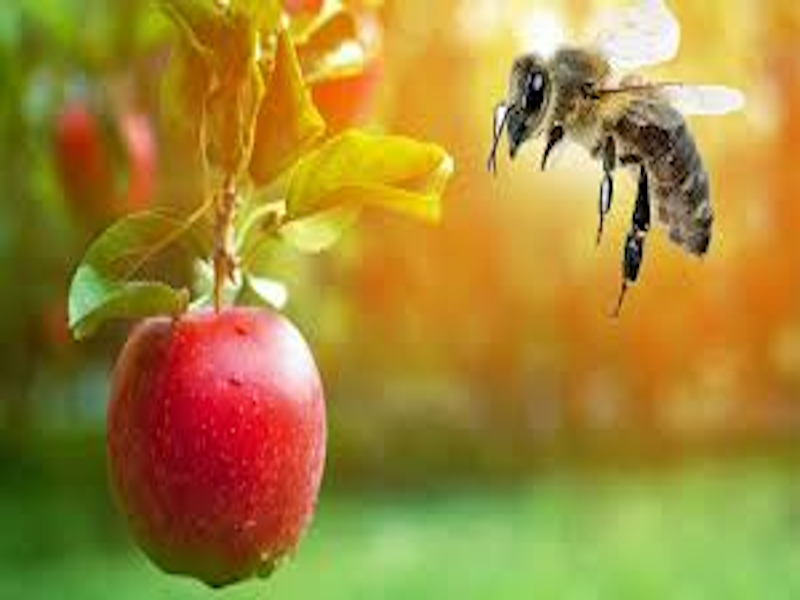abeja: (481, 2, 769, 352)
